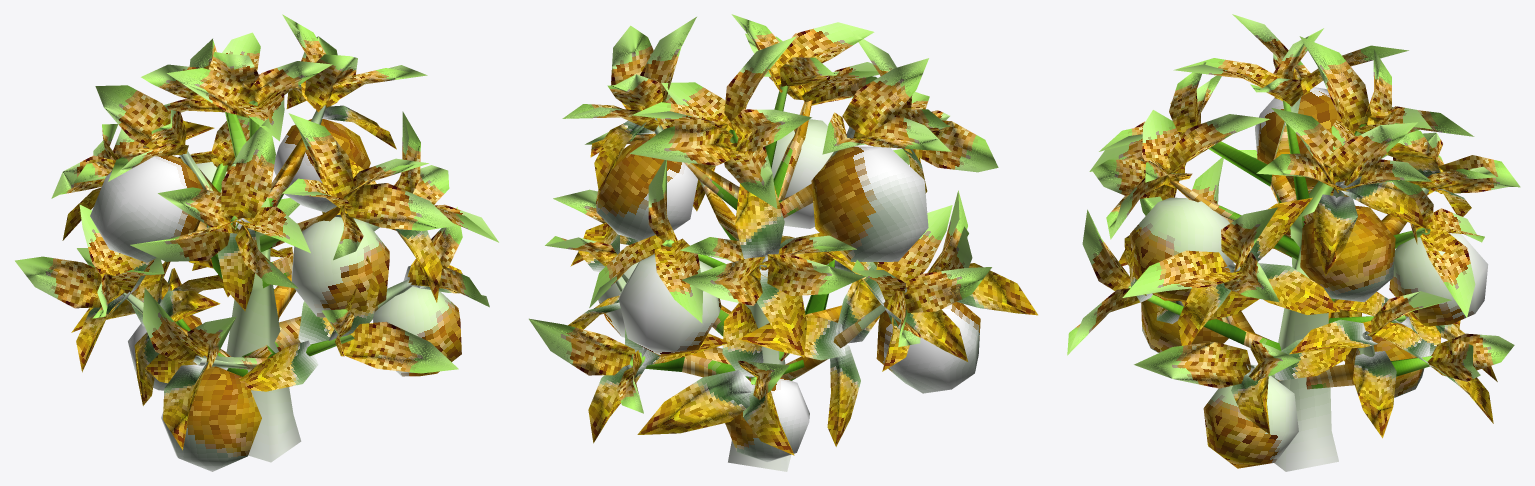
The model's file is botany_000028_02.FBX.
3 renders of one model, left to right at view 1: azimuth 30°, elevation 25°; view 2: azimuth 150°, elevation 25°; view 3: azimuth 270°, elevation 25°, orthographic. The views are drawn at different scales.
Visible parts, largest first — view 1: botany_000028_02; view 2: botany_000028_02; view 3: botany_000028_02.
Part boxes in pixels (x1,y1,x2,y2): botany_000028_02: [15, 14, 498, 471]; botany_000028_02: [529, 14, 1037, 471]; botany_000028_02: [1067, 14, 1520, 471].
Size of the model in its own units: 119 by 118 by 121.
